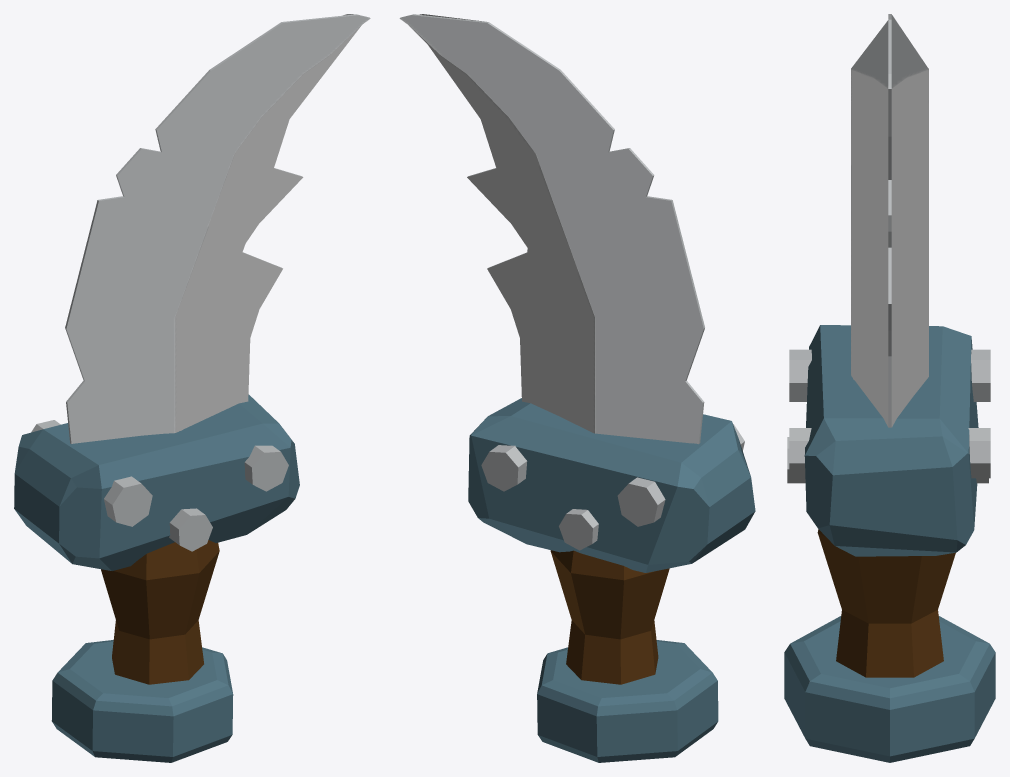
The model's file is CurvedSword.fbx.
3 views of the same model, side by side, from view 1: azimuth 30°, elevation 25°; view 2: azimuth 150°, elevation 25°; view 3: azimuth 270°, elevation 25° (orthographic). The views are drawn at different scales.
Visible parts, largest first — view 1: CurvedSword; view 2: CurvedSword; view 3: CurvedSword.
Boxes of the visible parts, bbox=[...] form: CurvedSword: bbox=[14, 14, 370, 762]; CurvedSword: bbox=[399, 14, 755, 762]; CurvedSword: bbox=[784, 14, 995, 762].
Bounding box in the file's own units: 0.6317 × 1.22 × 0.3001.
